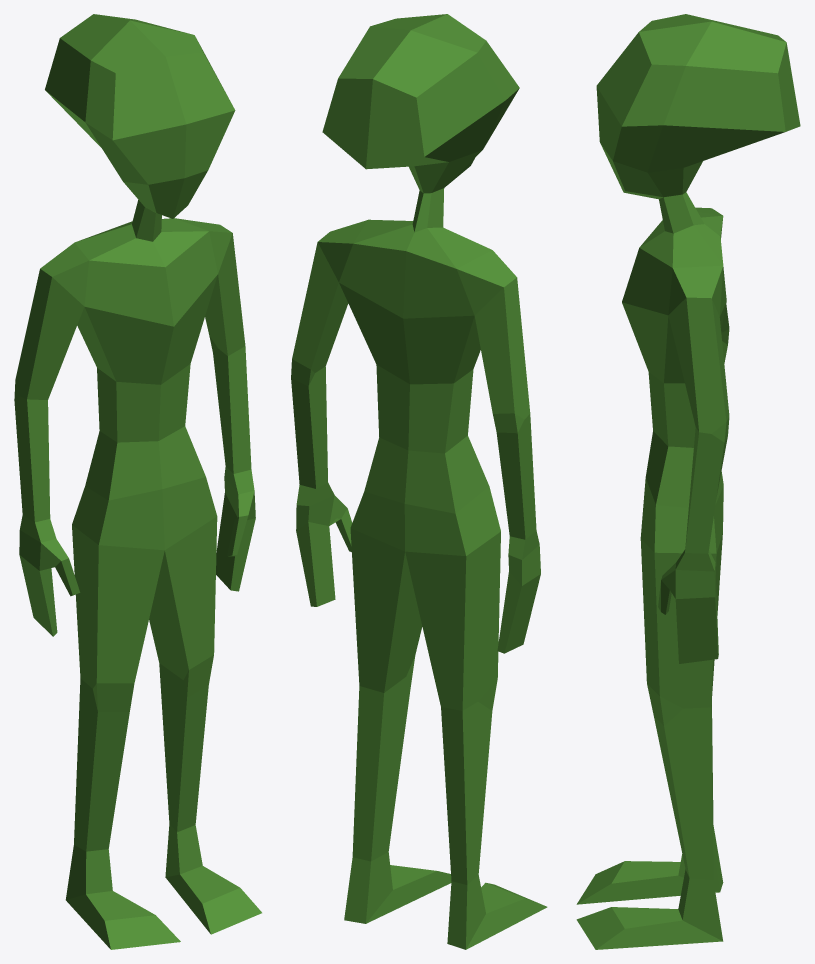
Rendered from people_alien-ufo.fbx.
3 renders of one model, left to right at view 1: azimuth 30°, elevation 25°; view 2: azimuth 150°, elevation 25°; view 3: azimuth 270°, elevation 25°, orthographic. The views are drawn at different scales.
Parts seen in each view (by area): view 1: people_alien_ufo; view 2: people_alien_ufo; view 3: people_alien_ufo.
Part boxes in pixels (x1,y1,x2,y2): people_alien_ufo: [14, 14, 261, 949]; people_alien_ufo: [291, 14, 547, 949]; people_alien_ufo: [576, 14, 800, 949].
Bounding box in the file's own units: 52.75 × 200 × 45.56.
